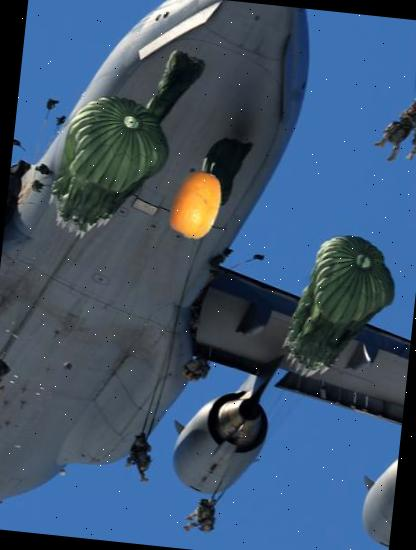Kumquats: (158, 168, 233, 243)
